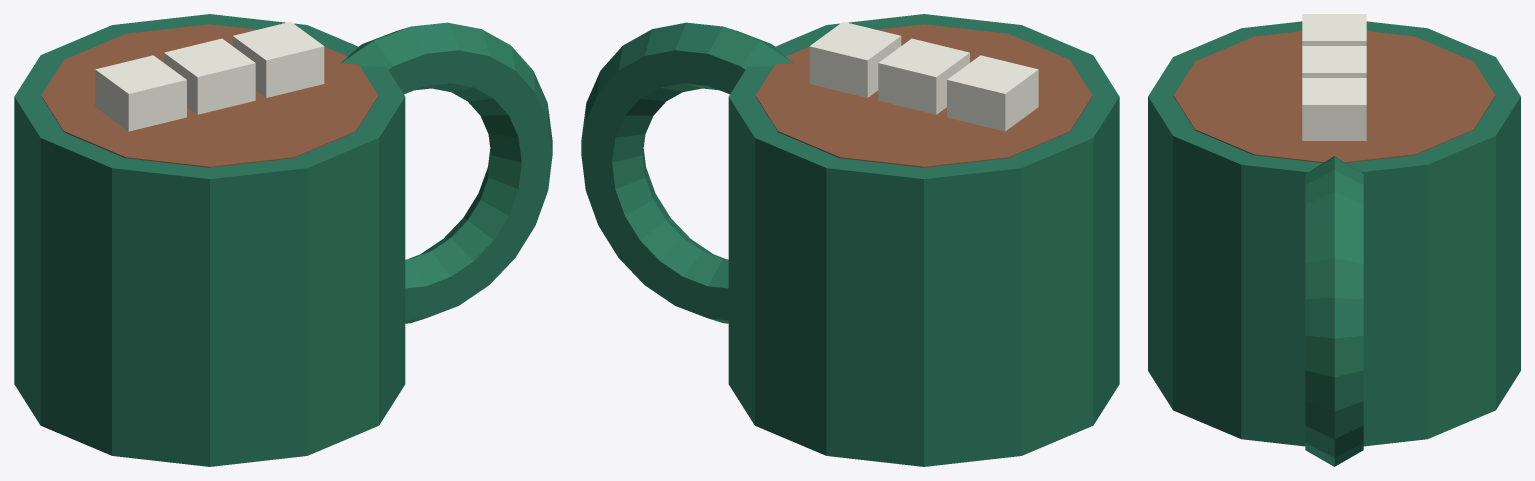
Rendered from three-d-christmas-village-christmas-village-hot-cocoa-mug-00dff601.glb.
3 renders of one model, left to right at view 1: azimuth 30°, elevation 25°; view 2: azimuth 150°, elevation 25°; view 3: azimuth 270°, elevation 25°, orthographic. The views are drawn at different scales.
Parts seen in each view (by area): view 1: hot-cocoa-mug; view 2: hot-cocoa-mug; view 3: hot-cocoa-mug.
Part boxes in pixels (box(x1,y1,x2,y2)): hot-cocoa-mug: box(14, 14, 552, 466); hot-cocoa-mug: box(581, 14, 1119, 466); hot-cocoa-mug: box(1148, 14, 1520, 466).
Size of the model in its own units: 0.484 by 0.295 by 0.32.
